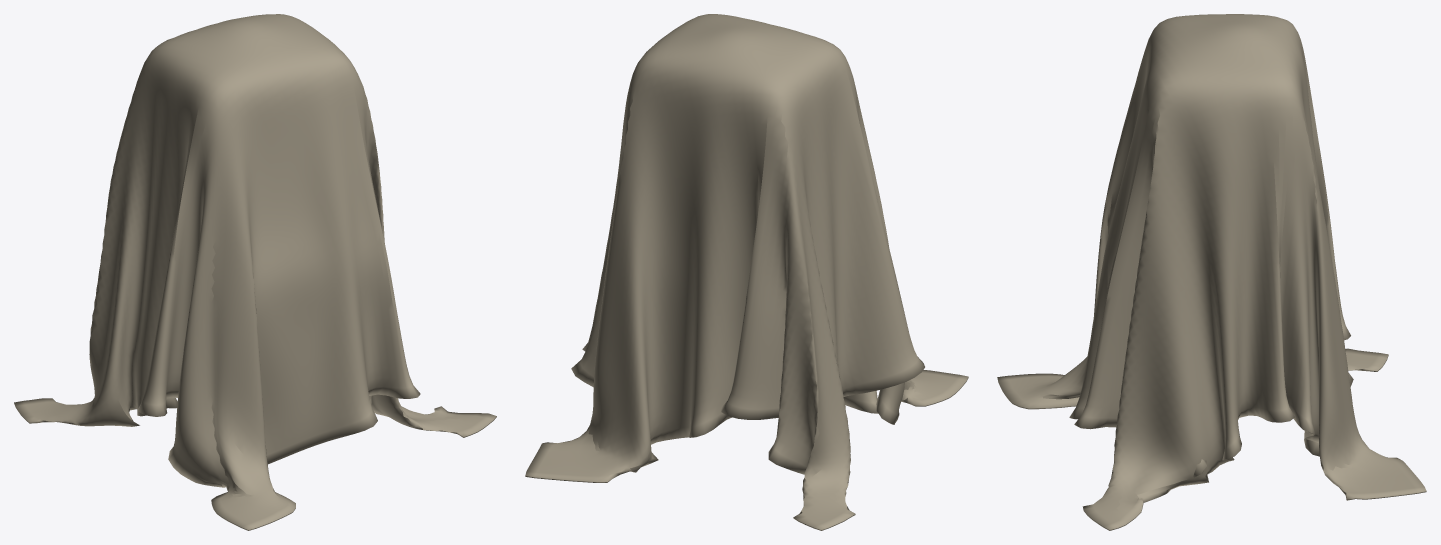
Rendered from slot_sheet.glb.
3 renders of one model, left to right at view 1: azimuth 30°, elevation 25°; view 2: azimuth 150°, elevation 25°; view 3: azimuth 270°, elevation 25°, orthographic. The views are drawn at different scales.
Parts seen in each view (by area): view 1: sheet_final; view 2: sheet_final; view 3: sheet_final.
Part boxes in pixels (x1=…): sheet_final: x1=14, y1=14, x2=496, y2=530; sheet_final: x1=525, y1=14, x2=968, y2=530; sheet_final: x1=997, y1=14, x2=1426, y2=530.
Bounding box in the file's own units: 1.84 × 1.93 × 1.85.
